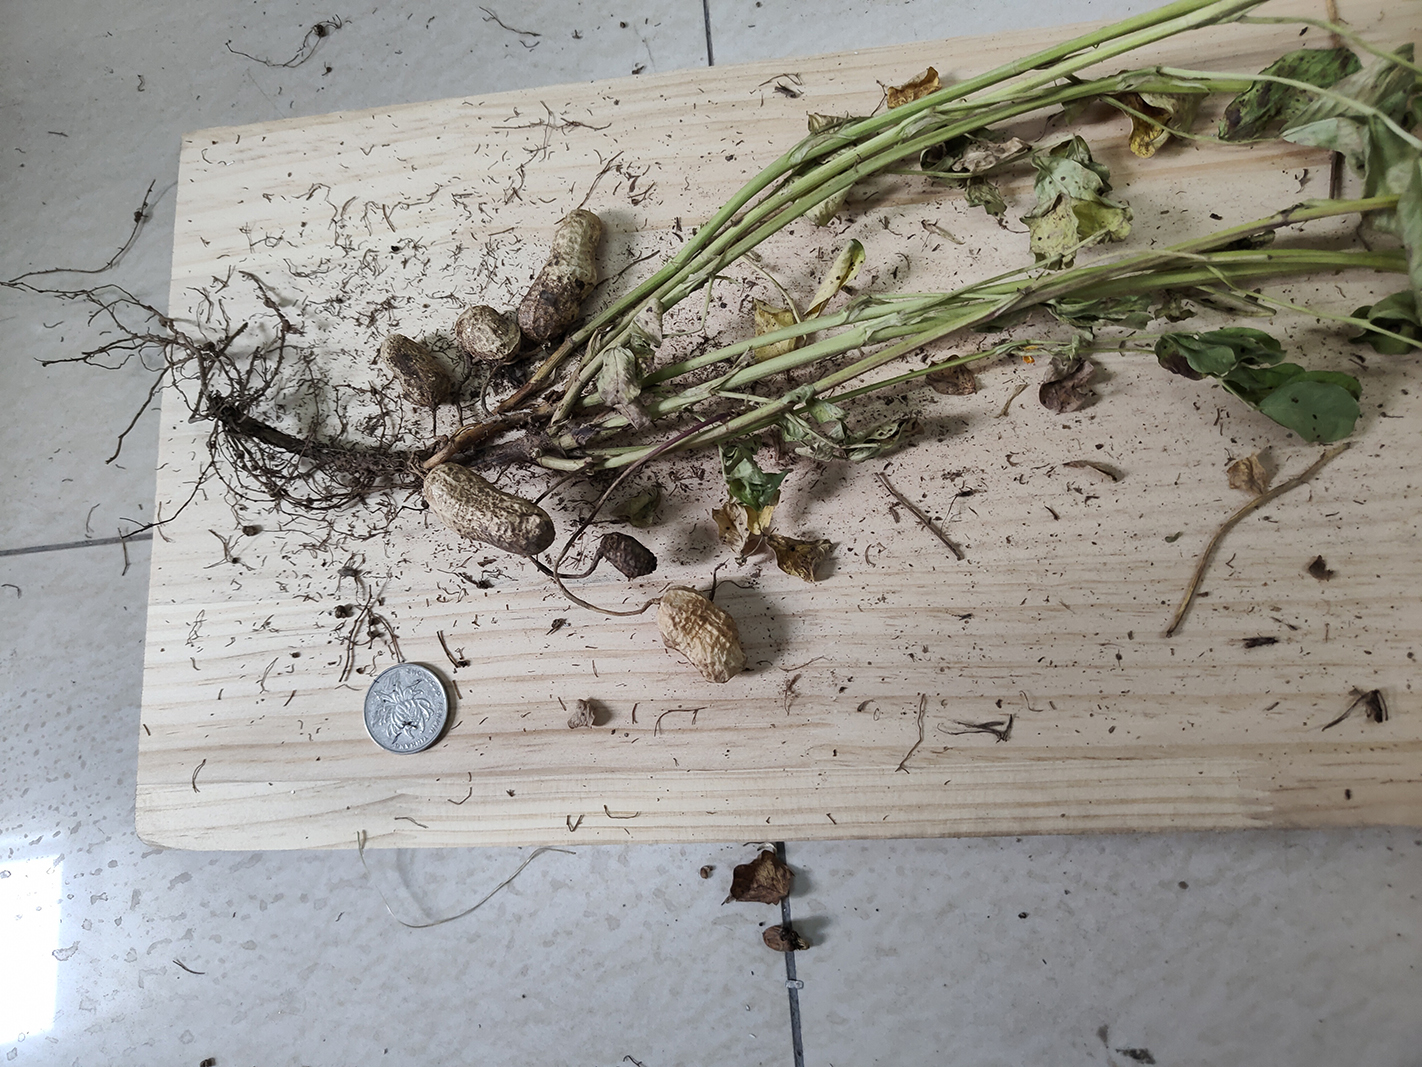h: (421, 463, 556, 554), (520, 208, 604, 342), (656, 587, 745, 685), (455, 304, 521, 364)
l: (378, 335, 449, 406), (601, 533, 659, 579)
